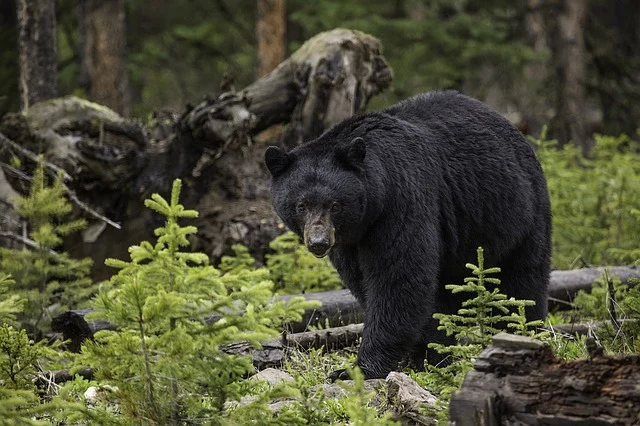bear: (265, 91, 552, 376)
